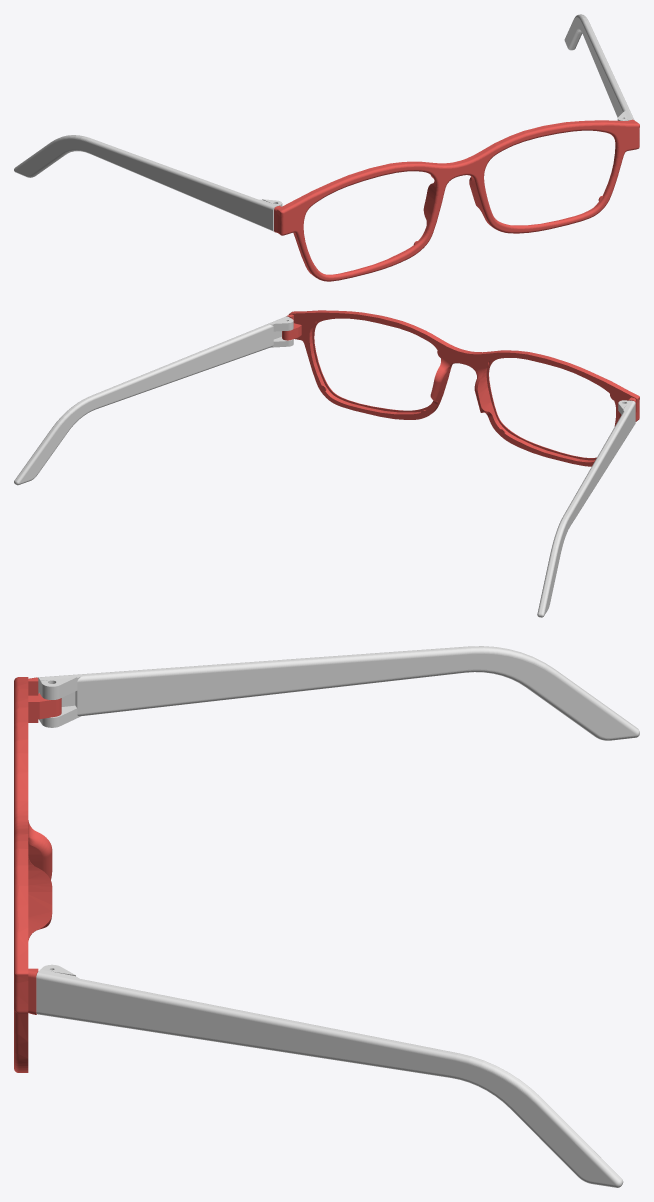
Rendered from Bashir1.gltf.
The picture shows the model from 3 angles, top to bottom: view 1: azimuth 30°, elevation 25°; view 2: azimuth 150°, elevation 25°; view 3: azimuth 270°, elevation 25°; orthographic projection. The views are drawn at different scales.
Visible parts, largest first — view 1: Glasses-full-assembly; view 2: Glasses-full-assembly; view 3: Glasses-full-assembly.
Part boxes in pixels (x1,y1,x2,y2): Glasses-full-assembly: (14, 14, 639, 281); Glasses-full-assembly: (14, 310, 639, 617); Glasses-full-assembly: (14, 646, 639, 1187).
Bounding box in the file's own units: 2.25 × 0.3983 × 1.31.
